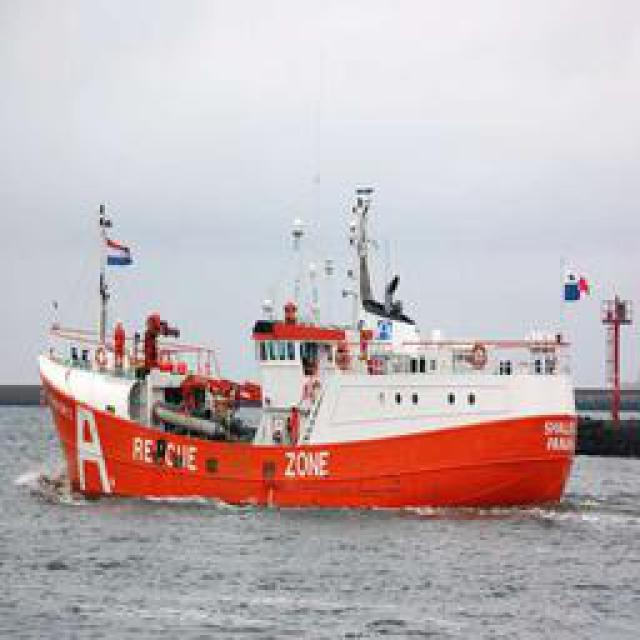Ship: (16, 175, 579, 515)
